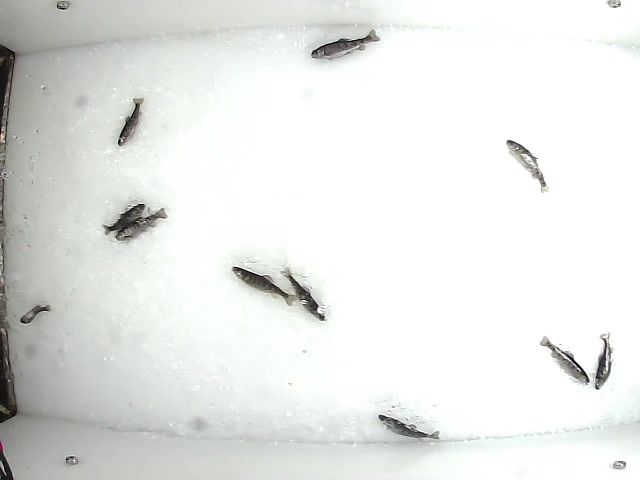fish: (278, 264, 327, 324), (537, 335, 593, 387), (503, 138, 550, 197), (307, 26, 381, 61), (110, 204, 170, 244), (376, 413, 449, 445), (98, 197, 146, 238), (113, 94, 147, 149), (589, 332, 617, 393), (16, 302, 52, 325)
